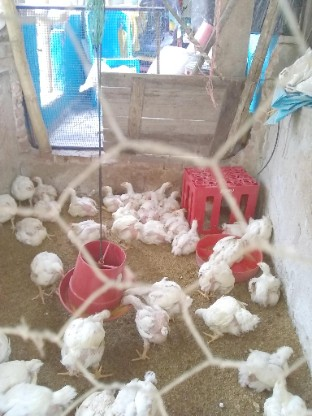Pollos: (113, 295, 174, 361), (59, 307, 113, 378), (225, 339, 296, 390), (125, 273, 189, 320), (196, 297, 260, 338), (4, 382, 71, 416), (193, 255, 241, 300), (256, 376, 309, 416), (27, 251, 68, 302), (249, 259, 294, 304), (117, 376, 164, 416), (0, 352, 47, 385), (242, 210, 279, 245), (208, 232, 251, 262), (74, 389, 119, 416), (66, 218, 106, 248), (63, 183, 98, 215), (173, 219, 205, 252), (213, 213, 255, 235), (14, 217, 47, 245), (109, 211, 135, 246), (34, 191, 62, 223), (136, 219, 166, 246), (10, 173, 34, 204), (0, 193, 18, 230), (31, 174, 58, 197), (98, 183, 121, 206), (0, 326, 14, 360), (140, 200, 161, 219), (157, 177, 175, 199), (166, 190, 185, 209), (171, 210, 188, 231), (120, 181, 136, 200), (125, 202, 137, 212), (145, 189, 155, 201), (179, 206, 189, 214)
